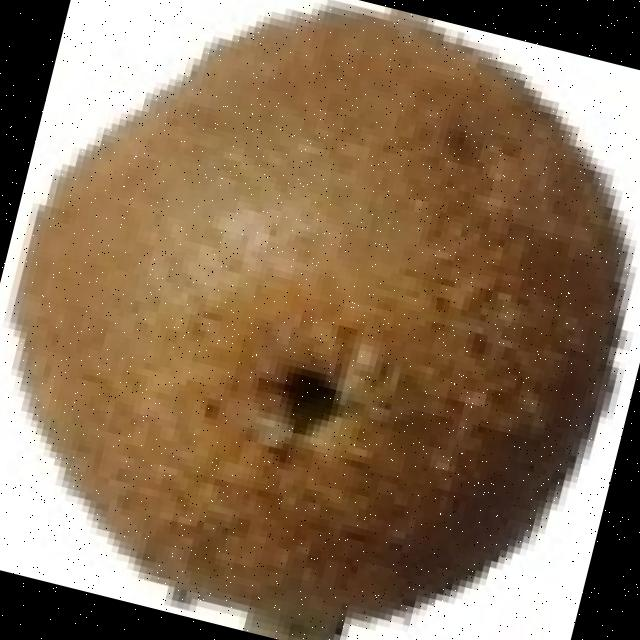kiwi: (13, 0, 616, 635)
